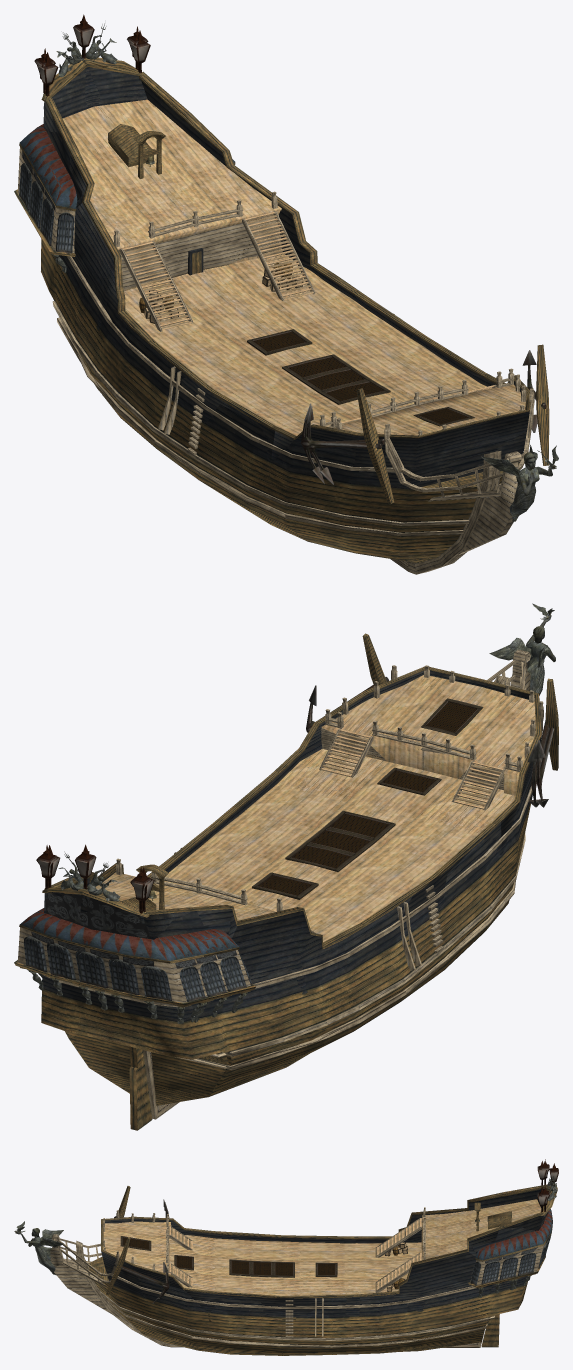
File: pir_m_shp_cas_blackPearl.fbx
The picture shows the model from 3 angles, top to bottom: view 1: azimuth 30°, elevation 25°; view 2: azimuth 150°, elevation 25°; view 3: azimuth 270°, elevation 25°; orthographic projection. The views are drawn at different scales.
Parts seen in each view (by area): view 1: deckMain.001, polySurface724, deckMain, hull1, polySurface725, deckMain1, lod_lowend_high_custom_hull_grey_trim_HullTrim_A, deckFore, hull_inside_back.001, hull_inside.001, polySurface608, steps.002 (+20 smaller); view 2: polySurface724, deckMain.001, deckMain, polySurface725, hull1, deckFore, hull.001, deckFore.001, cabinRoof, polySurface608, HullTrim_A.001, lod_lowend_high_custom_hull_grey_trim_HullTrim_A (+22 smaller); view 3: polySurface724, deckMain.001, hull1, deckMain, polySurface725, hull_inside.001, deckFore, cabinRoof, HullTrim_A.001, HullTrim_B, polySurface608, deckFore.001 (+27 smaller).
Boxes of the visible parts, x1,y1,x2,y2 form: deckMain.001: (64,102,486,435); polySurface724: (41,239,519,562); deckMain: (62,99,414,430); hull1: (43,101,529,489); polySurface725: (46,129,526,488); deckMain1: (120,214,282,290); lod_lowend_high_custom_hull_grey_trim_HullTrim_A: (139,77,530,423); deckFore: (334,384,525,435); hull_inside_back.001: (52,67,147,118); hull_inside.001: (141,81,526,395); polySurface608: (282,354,390,404); steps.002: (122,241,191,329); polySurface724: (41,798,532,1105); deckMain.001: (95,749,512,920); deckMain: (119,762,515,941); polySurface725: (42,770,532,1021); hull1: (44,736,541,1020); deckFore: (322,677,535,774); hull.001: (67,859,501,1105); deckFore.001: (321,675,535,795); cabinRoof: (20,908,238,960); polySurface608: (285,811,395,871); HullTrim_A.001: (241,679,541,946); lod_lowend_high_custom_hull_grey_trim_HullTrim_A: (73,666,482,884); polySurface724: (87,1257,527,1355); deckMain.001: (177,1203,541,1295); hull1: (101,1215,542,1317); deckMain: (169,1199,538,1295); polySurface725: (138,1215,543,1317); hull_inside.001: (105,1189,540,1243); deckFore: (103,1221,170,1274); cabinRoof: (475,1209,552,1260); HullTrim_A.001: (101,1188,541,1239); HullTrim_B: (101,1212,543,1298); polySurface608: (229,1259,294,1277); deckFore.001: (103,1223,171,1270).
Size of the model in its own units: 9803 by 11866 by 31948.
3 materials, 3 textured.
